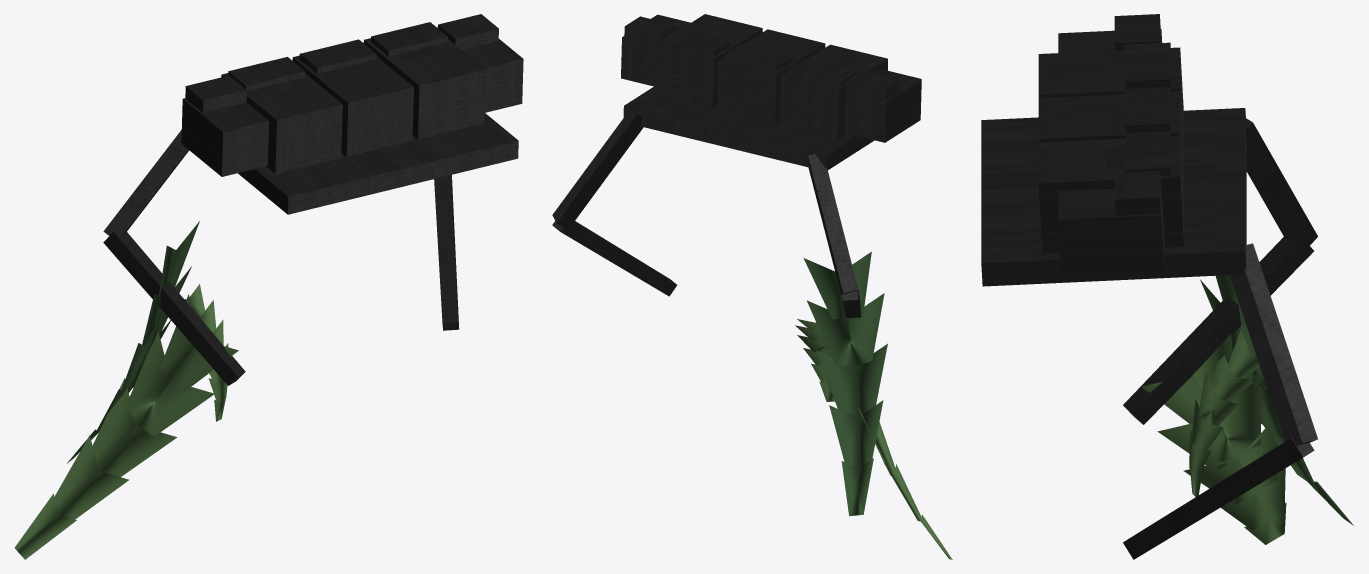
The model's file is chest_rig_worn_nva_foliage.glb.
3 renders of one model, left to right at view 1: azimuth 30°, elevation 25°; view 2: azimuth 150°, elevation 25°; view 3: azimuth 270°, elevation 25°, orthographic. The views are drawn at different scales.
Parts seen in each view (by area): view 1: chest_rig_worn_foliage, chest_rig_worn_foliage_sprig_0, chest_rig_worn_foliage_sprig_4, chest_rig_worn_foliage_sprig_5; view 2: chest_rig_worn_foliage, chest_rig_worn_foliage_sprig_4, chest_rig_worn_foliage_sprig_0, chest_rig_worn_foliage_sprig_5; view 3: chest_rig_worn_foliage, chest_rig_worn_foliage_sprig_0, chest_rig_worn_foliage_sprig_5, chest_rig_worn_foliage_sprig_4.
Boxes of the visible parts, x1,y1,x2,y2 form: chest_rig_worn_foliage: [103, 14, 523, 385]; chest_rig_worn_foliage_sprig_0: [14, 294, 238, 559]; chest_rig_worn_foliage_sprig_4: [67, 221, 199, 463]; chest_rig_worn_foliage_sprig_5: [184, 284, 228, 421]; chest_rig_worn_foliage: [552, 14, 921, 317]; chest_rig_worn_foliage_sprig_4: [803, 251, 887, 516]; chest_rig_worn_foliage_sprig_0: [840, 355, 952, 559]; chest_rig_worn_foliage_sprig_5: [795, 319, 834, 401]; chest_rig_worn_foliage: [981, 14, 1317, 559]; chest_rig_worn_foliage_sprig_0: [1141, 334, 1286, 544]; chest_rig_worn_foliage_sprig_5: [1189, 330, 1259, 496]; chest_rig_worn_foliage_sprig_4: [1200, 275, 1353, 525].
Size of the model in its own units: 0.4472 by 0.4576 by 0.2556.
3 materials, 3 textured.
